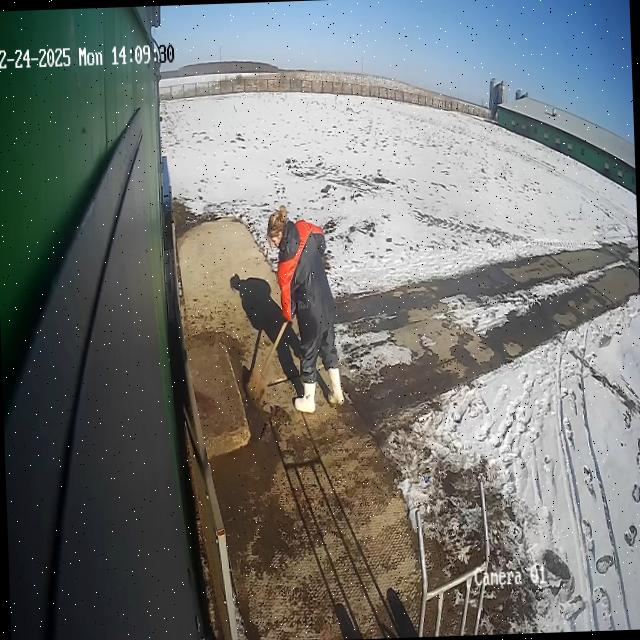Red uniform: (264, 202, 346, 416)
